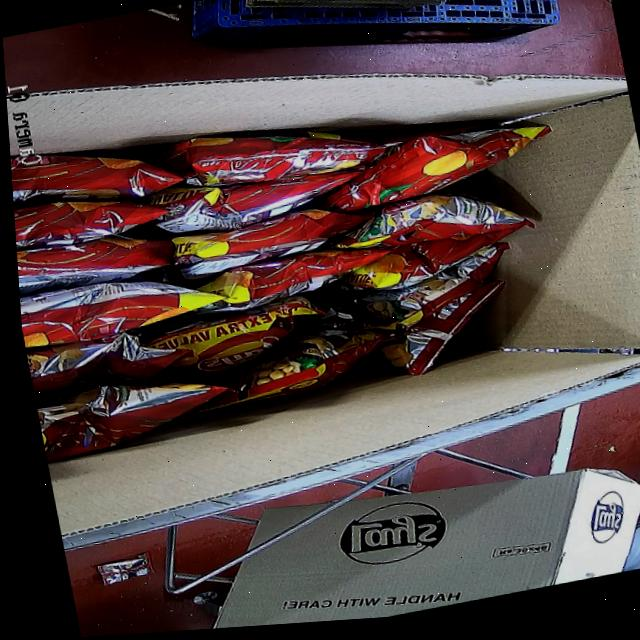MASALA: (6, 54, 598, 464)
